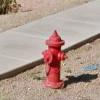Hydrant: (39, 28, 71, 93)
